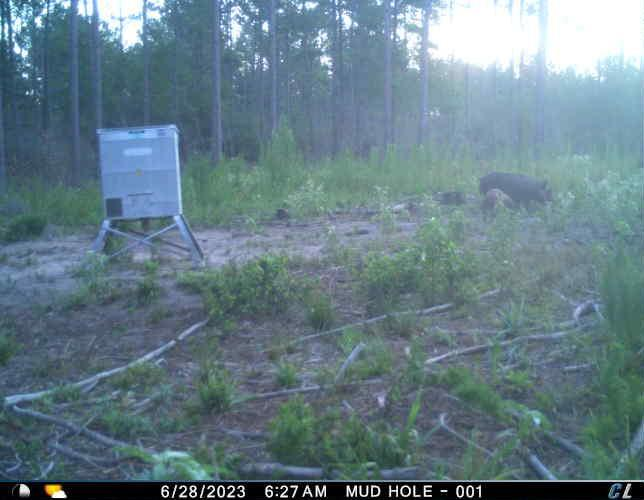Hog: (475, 171, 558, 215)
